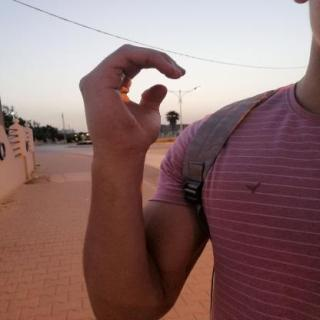JEEM: (66, 37, 192, 158)
